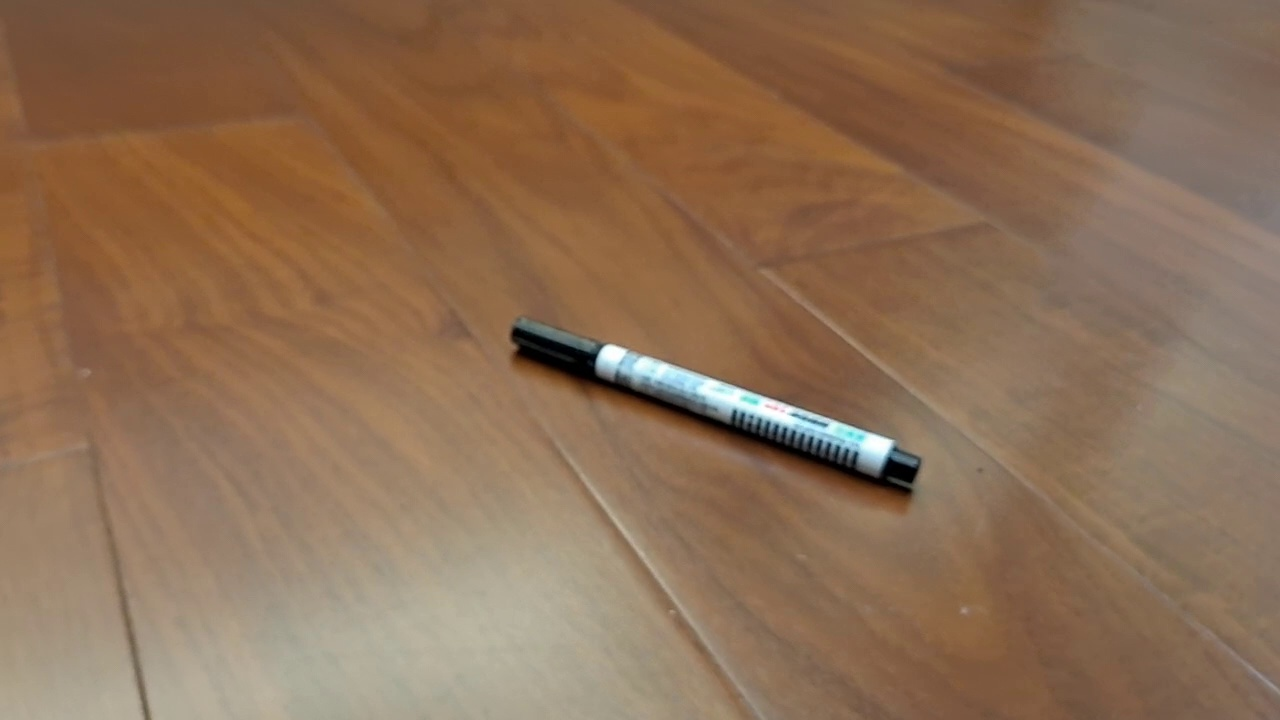pen: (509, 314, 923, 485)
